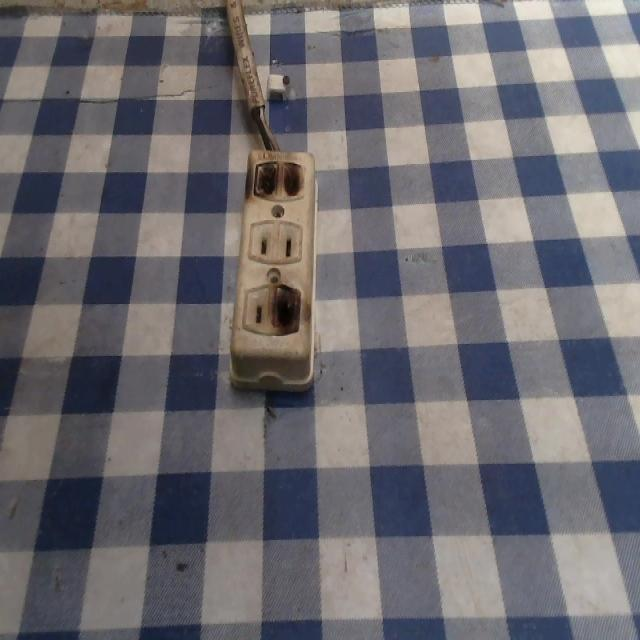-: (241, 154, 309, 202), (270, 280, 312, 340)
